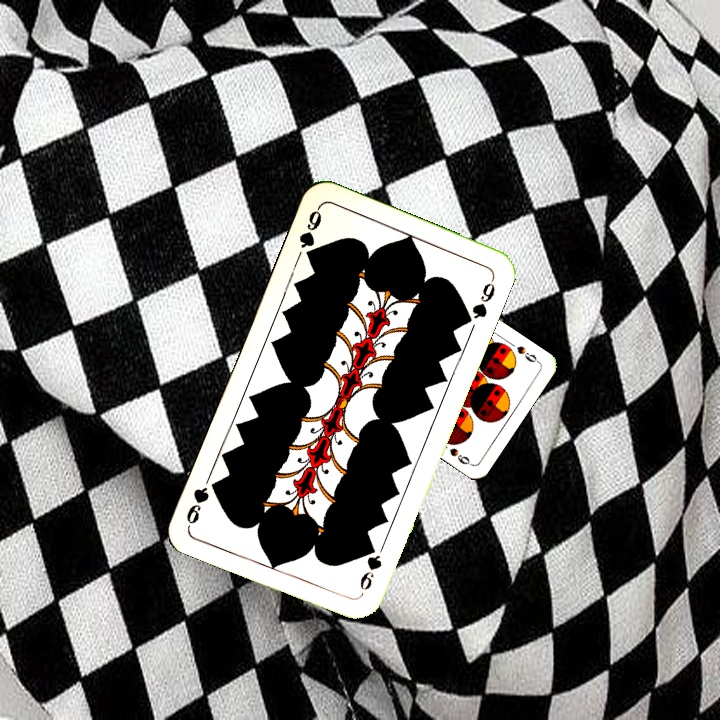G9: (295, 203, 325, 263), (355, 541, 385, 593)
S9: (513, 342, 542, 366)
